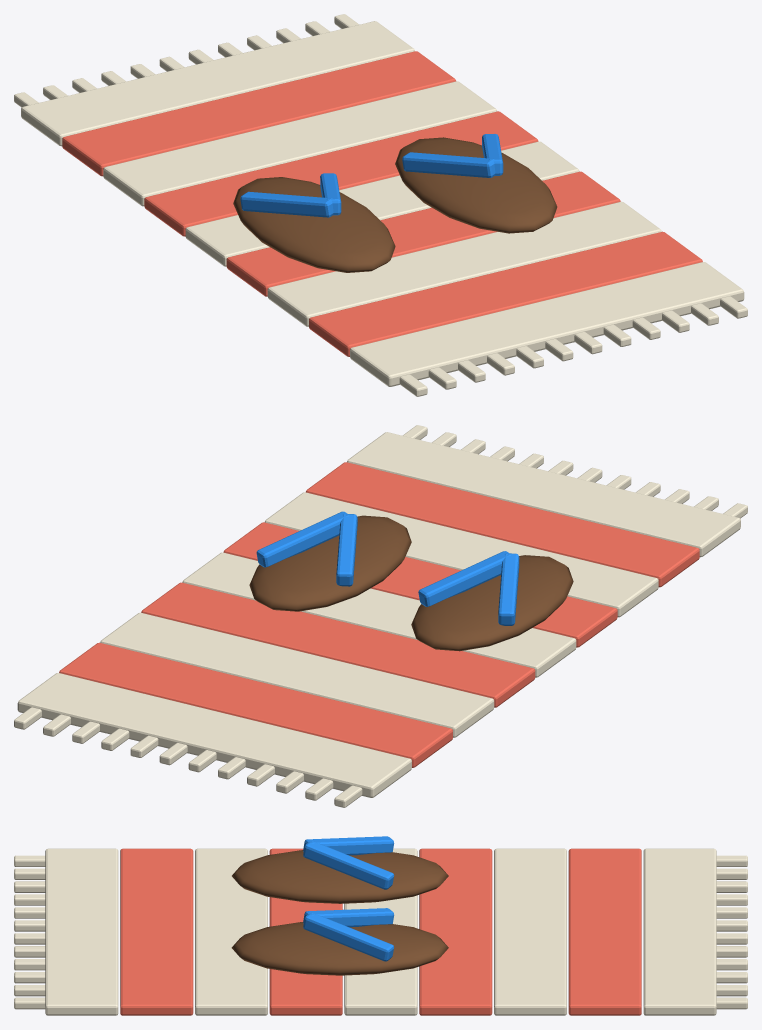
File: towel-sandals.glb
3 renders of one model, top to bottom at view 1: azimuth 30°, elevation 25°; view 2: azimuth 150°, elevation 25°; view 3: azimuth 270°, elevation 25°, orthographic. The views are drawn at different scales.
Parts seen in each view (by area): view 1: Woven towel stripe.011; view 2: Woven towel stripe.011; view 3: Woven towel stripe.011.
Part boxes in pixels (left/top/right/bottom): Woven towel stripe.011: left=14, top=14, right=747, bottom=396; Woven towel stripe.011: left=14, top=425, right=747, bottom=807; Woven towel stripe.011: left=14, top=836, right=747, bottom=1015.
Bounding box in the file's own units: 1.1 × 0.1801 × 2.16.
